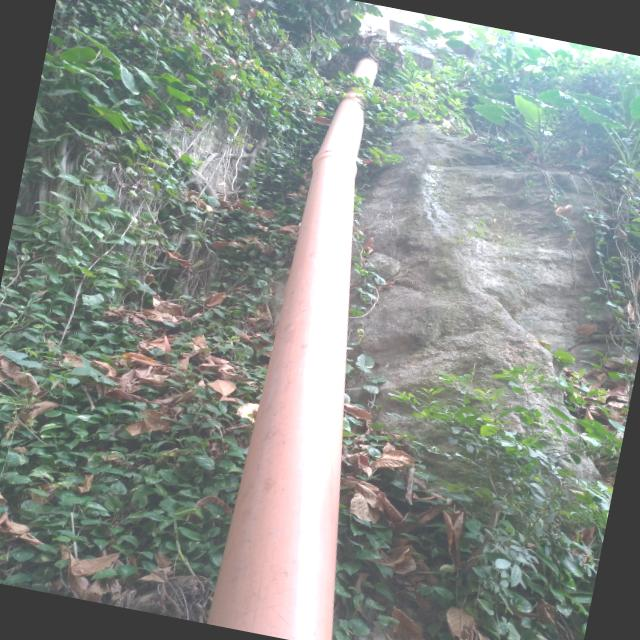gas: (210, 55, 382, 640)
